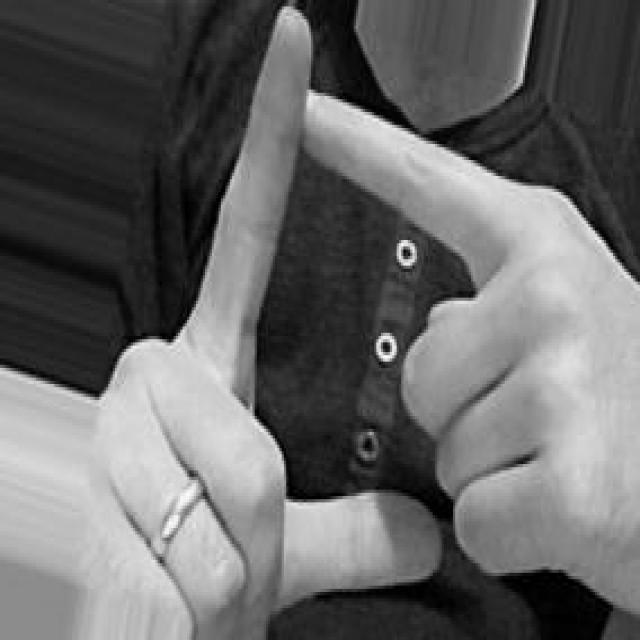J: (100, 0, 640, 640)
